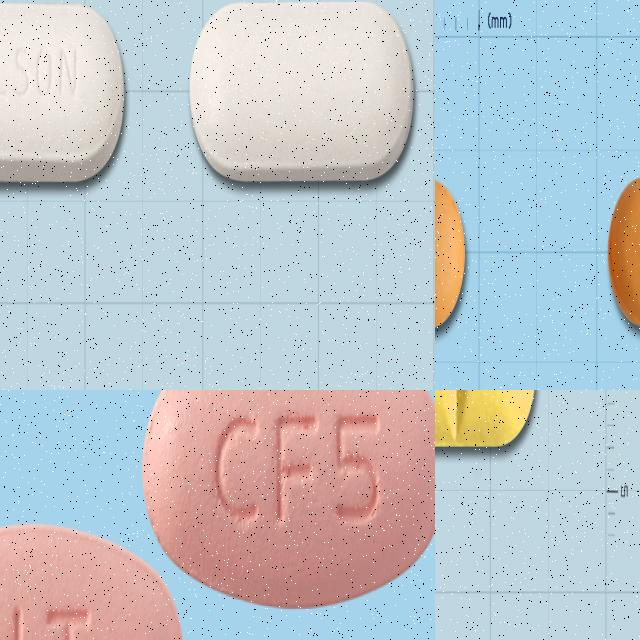Ciproctan: (185, 0, 419, 189), (0, 0, 132, 191)
Clarithin: (435, 390, 541, 454)
Crafroxin Tab: (141, 390, 435, 608), (0, 522, 184, 640)
